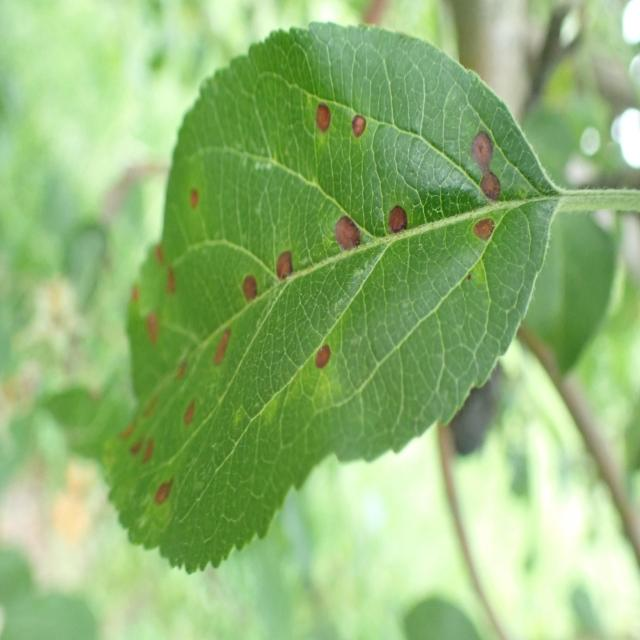Black Rot: (462, 111, 506, 207), (206, 324, 257, 376), (270, 232, 306, 304), (306, 77, 337, 157), (148, 474, 193, 526), (330, 203, 364, 261), (379, 199, 416, 252), (238, 268, 264, 322), (188, 172, 210, 230), (168, 324, 186, 394), (469, 210, 502, 248), (346, 100, 372, 146), (312, 335, 339, 375), (178, 394, 197, 447)
